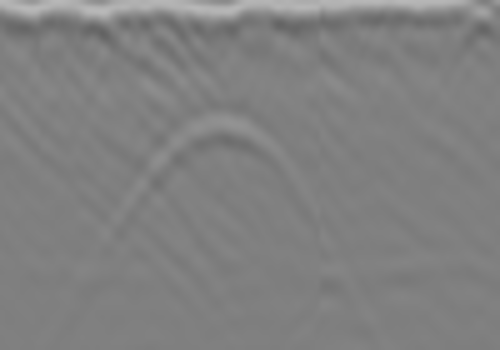hyperbola: (109, 104, 341, 333)
